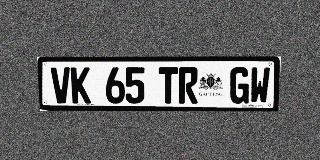5: (125, 67, 145, 104)
6: (105, 67, 125, 103)
G: (229, 67, 250, 104)
K: (70, 67, 91, 103)
R: (178, 67, 198, 104)
T: (159, 67, 178, 104)
V: (50, 67, 71, 103)
W: (249, 67, 270, 104)
